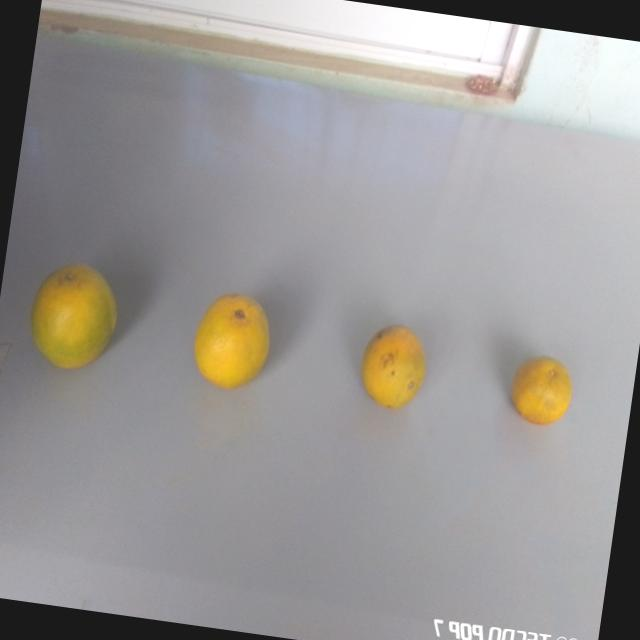Ripe orange: (22, 245, 132, 390), (184, 286, 287, 403), (347, 312, 440, 424), (502, 337, 583, 436)
